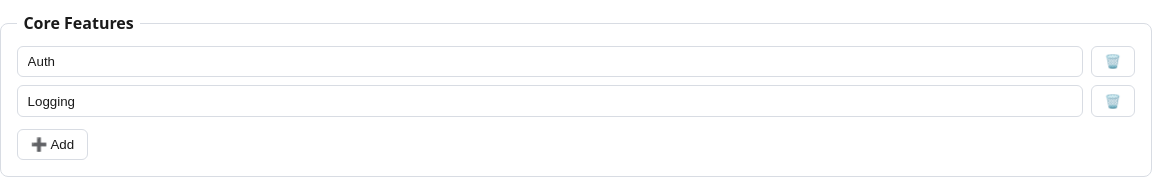
Test: StringListEditor › removing a row deletes only that input
Click the button named "Remove" at x=1113, y=62, box [1091,46,1135,77]
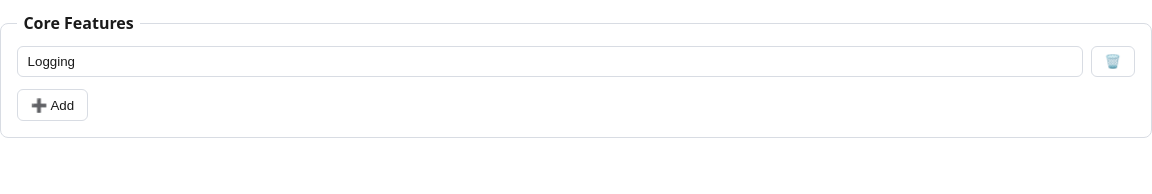
Expected: the field showing "Auth" is not shown
Expected: the field named "Core Features 1" holds "Logging", [17,46,1083,77]
